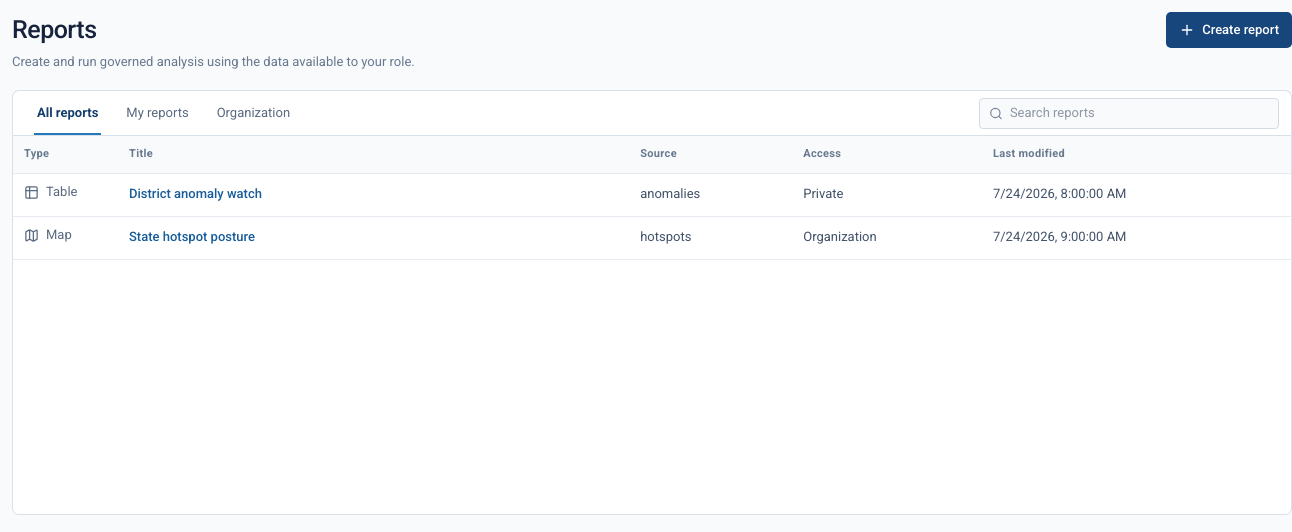
Test: lists real saved reports and filters the catalogue without fake actions
Check: the link "State hotspot posture" is shown, box [129,229,255,244]
Type "hotspot" into the field labelled "Search reports". click: (1139, 113)
box: [1010,104,1269,122]
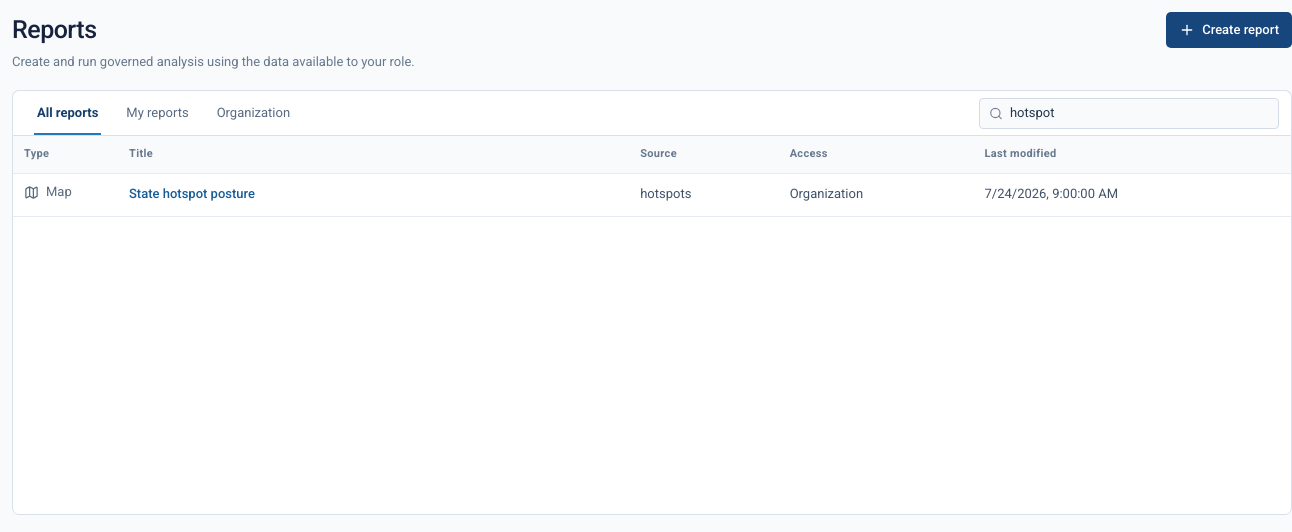
Check: the link "State hotspot posture" is shown, box [129,186,255,201]
Check: the link "District anomaly watch" is gone
Clear the field named "Search reports". click: (1139, 113)
box: [1010,104,1269,122]
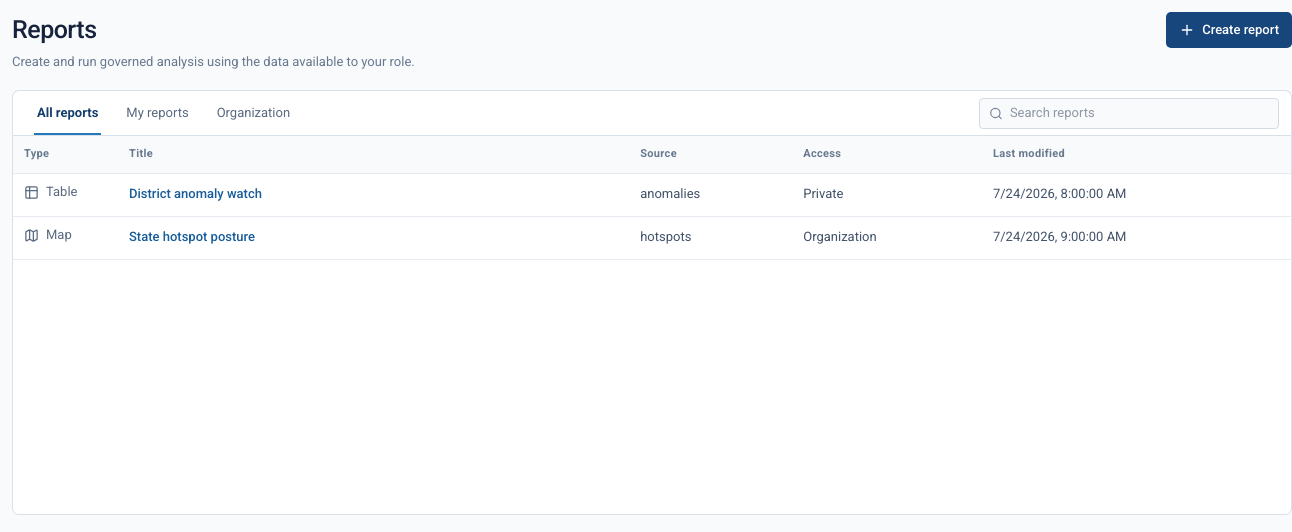
Click the button "Organization". click: (253, 113)
box: [205,91,302,135]
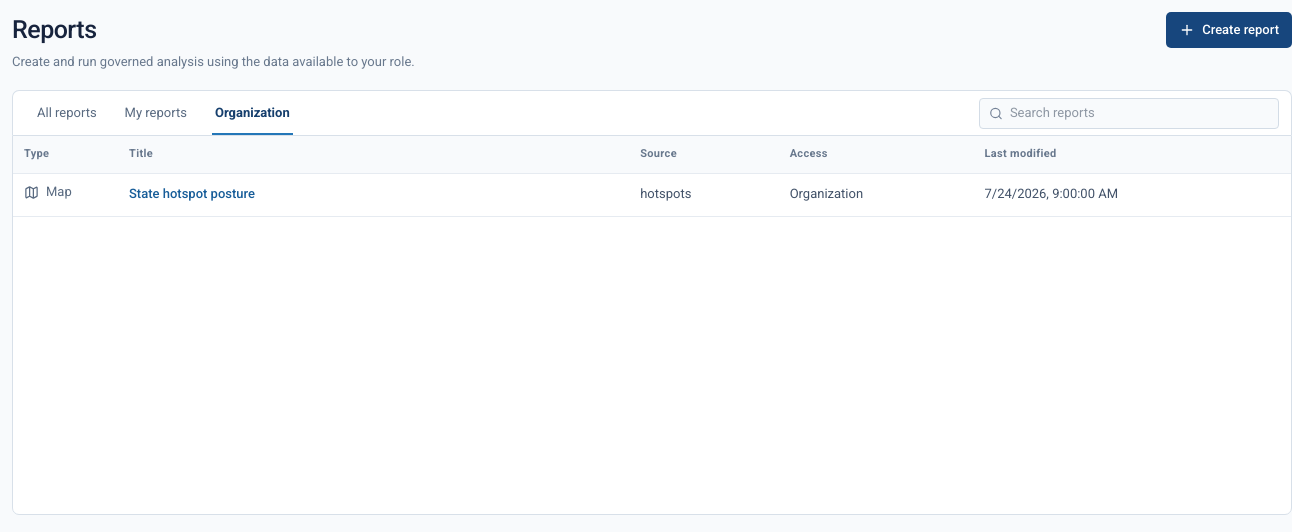
Check: the link "District anomaly watch" is gone
